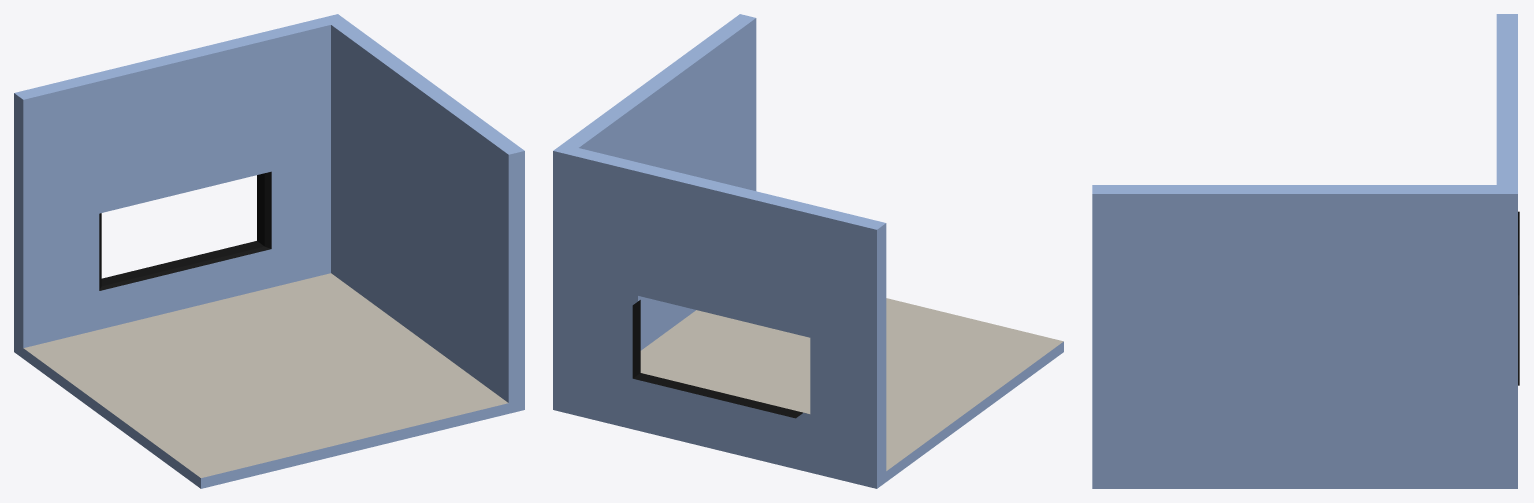
Rendered from lab_room.glb.
3 renders of one model, left to right at view 1: azimuth 30°, elevation 25°; view 2: azimuth 150°, elevation 25°; view 3: azimuth 270°, elevation 25°, orthographic. The views are drawn at different scales.
Visible parts, largest first — view 1: wall; view 2: wall; view 3: wall.
Boxes of the visible parts, x1,y1,x2,y2 form: wall: (14,14,524,488); wall: (553,14,1063,488); wall: (1092,14,1519,488).
Bounding box in the file's own units: 10 × 7.64 × 10.04.
